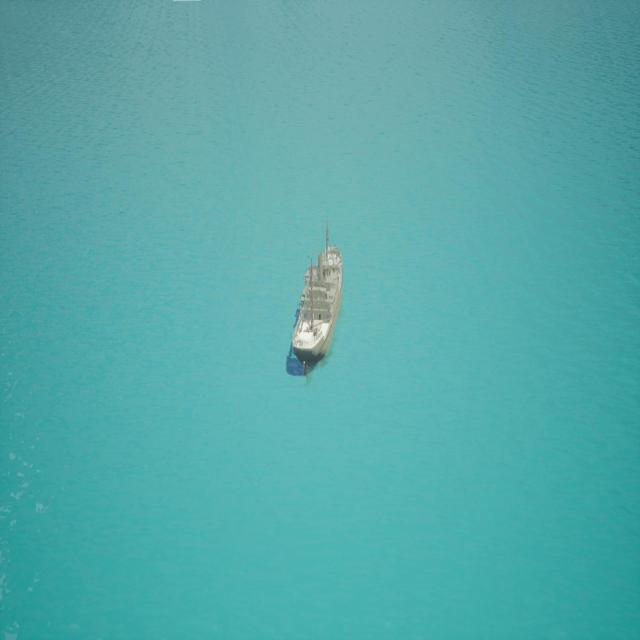fishing ship: (290, 219, 345, 382)
